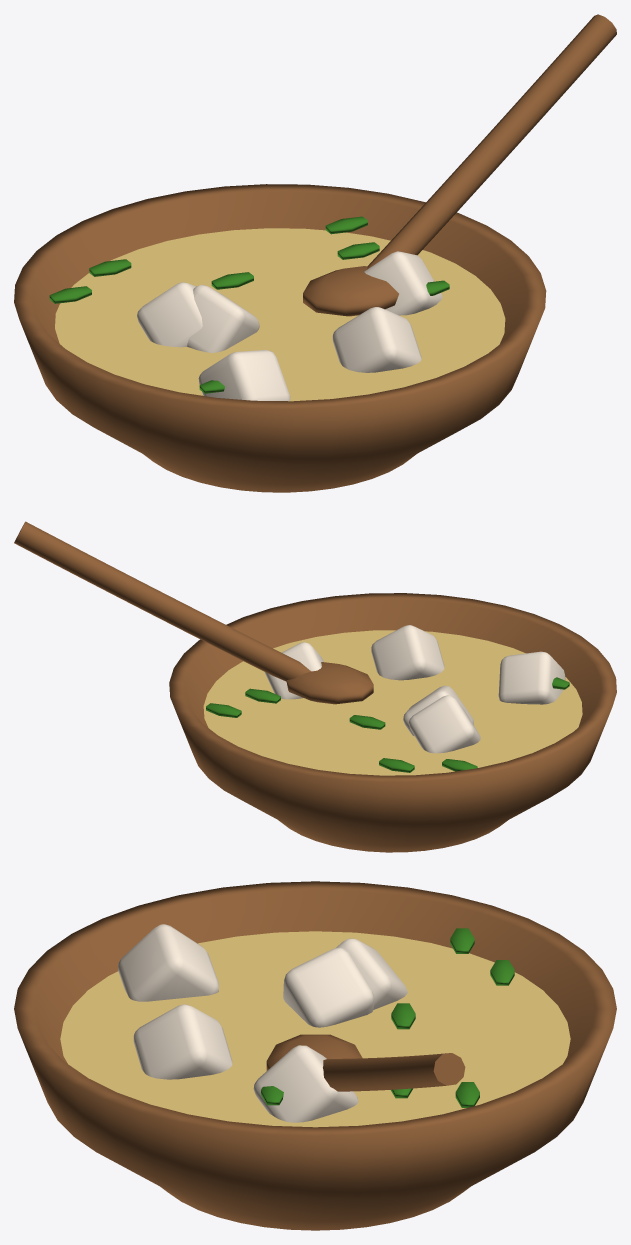
File: fischsuppe.glb
3 renders of one model, top to bottom at view 1: azimuth 30°, elevation 25°; view 2: azimuth 150°, elevation 25°; view 3: azimuth 270°, elevation 25°, orthographic. The views are drawn at different scales.
Visible parts, largest first — view 1: schale, inhalt, r, Cube.004, Cube.001, Sphere.008, Cube, Cube.003, Cube.002; view 2: schale, inhalt, r, Cube.004, Cube.001, Cube.003, Sphere.008, Cube.002, Cube; view 3: schale, inhalt, Cube.001, Cube.004, Cube, Cube.002, r, Cube.003, Sphere.008, Sphere.001, Sphere.007, Sphere (+1 smaller).
Part boxes in pixels (x1,y1,x2,y2): schale: (14, 184, 546, 492); inhalt: (55, 228, 505, 401); r: (367, 14, 616, 269); Cube.004: (332, 307, 421, 372); Cube.001: (198, 350, 290, 401); Sphere.008: (303, 266, 398, 316); Cube: (187, 285, 259, 352); Cube.003: (137, 282, 202, 347); Cube.002: (364, 251, 442, 315); schale: (169, 593, 616, 852); inhalt: (203, 630, 582, 775); r: (14, 521, 310, 681); Cube.004: (371, 625, 444, 680); Cube.001: (498, 651, 565, 704); Cube.003: (409, 695, 480, 753); Sphere.008: (286, 662, 373, 704); Cube.002: (264, 642, 323, 699); Cube: (403, 685, 473, 735); schale: (14, 881, 616, 1230); inhalt: (60, 931, 570, 1127); Cube.001: (118, 924, 218, 1001); Cube.004: (133, 1004, 232, 1079); Cube: (283, 947, 374, 1027); Cube.002: (253, 1045, 358, 1122); r: (323, 1053, 465, 1091); Cube.003: (336, 938, 407, 1009); Sphere.008: (266, 1034, 362, 1070); Sphere.001: (391, 1003, 415, 1029); Sphere.007: (490, 960, 514, 985); Sphere: (450, 928, 474, 953).
Size of the model in its own units: 0.2425 by 0.1043 by 0.18.
